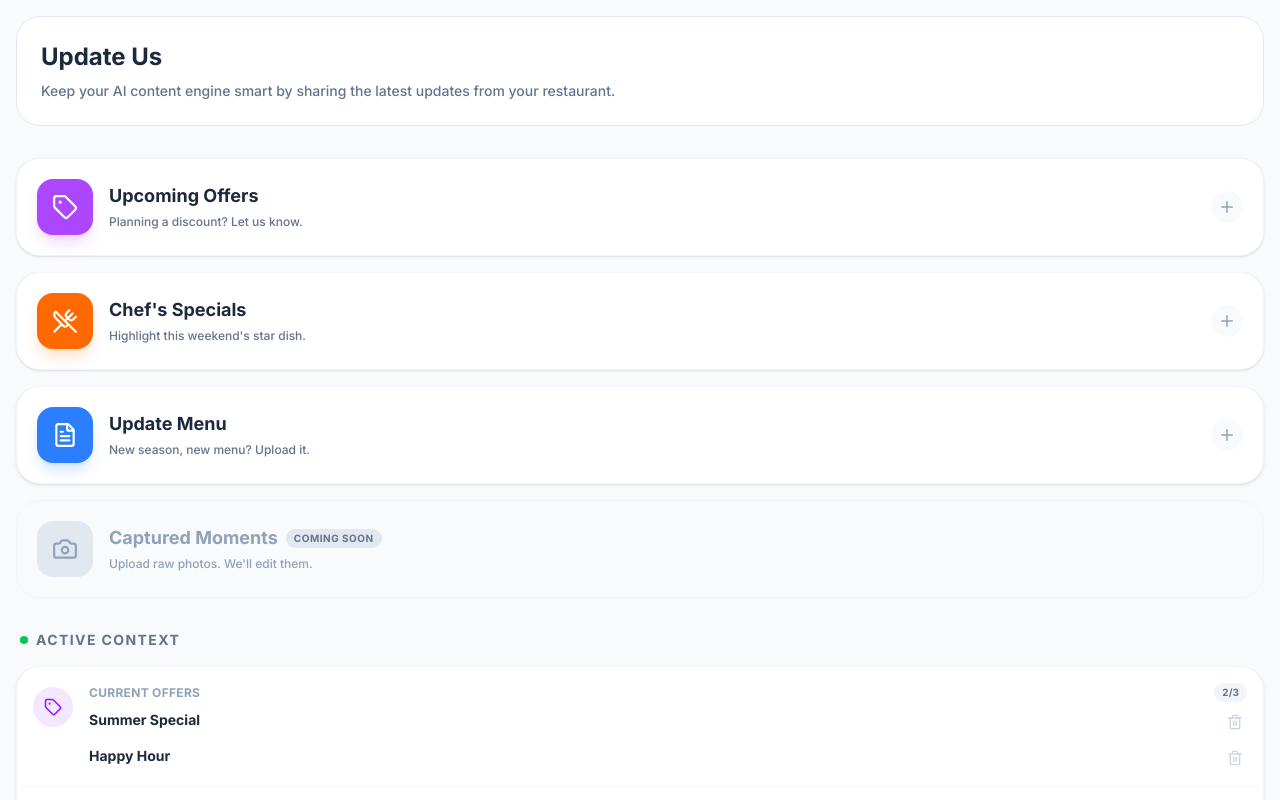
Scenario: Inputs Component › Modal Interactions › should open offers modal when button is clicked
What coordinates should you click on to do the following:
click the button "Upcoming Offers"
I would click on:
 (65, 207)
Its box is [16, 158, 1264, 256].
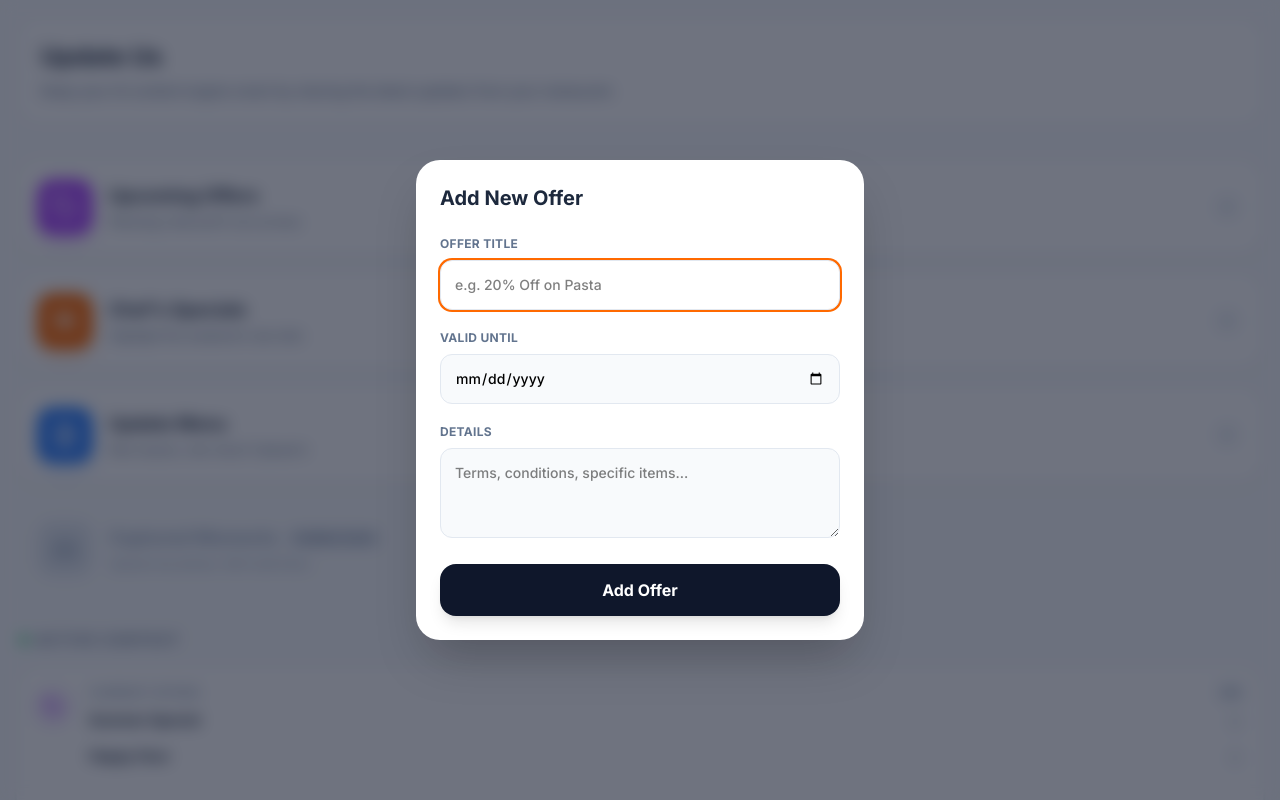
Check: the heading "Add New Offer" is shown, box [440, 184, 583, 212]
